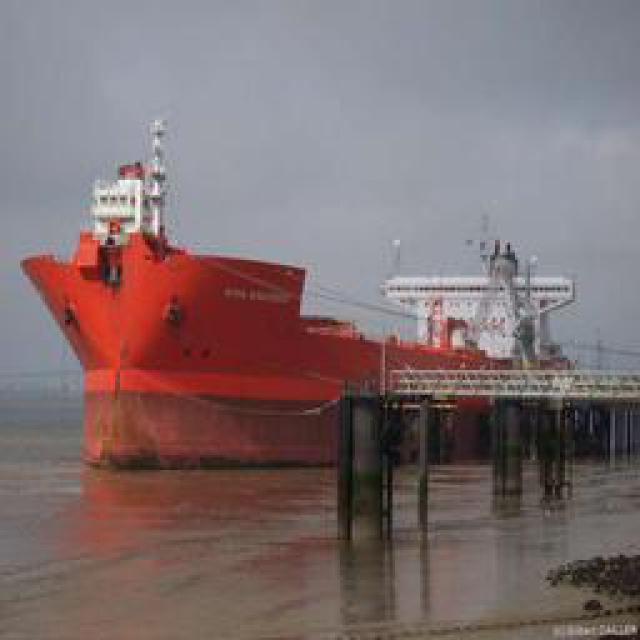Ship: (32, 106, 572, 459)
